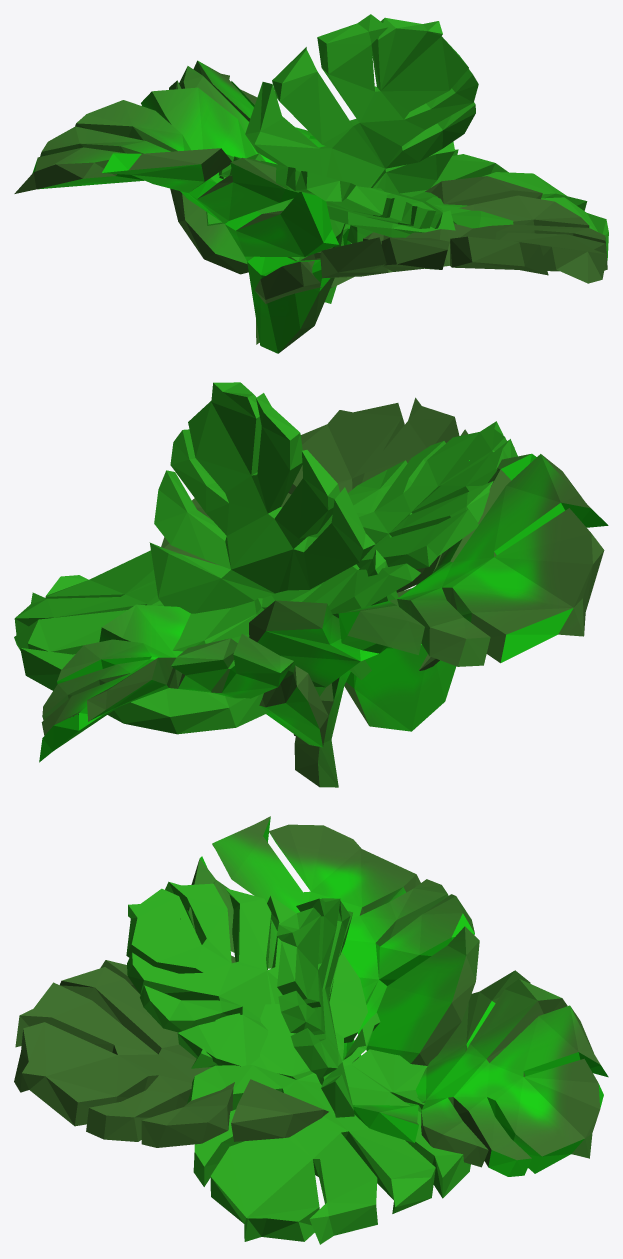
The model's file is planta.fbx.
3 views of the same model, one above another, from view 1: azimuth 30°, elevation 25°; view 2: azimuth 150°, elevation 25°; view 3: azimuth 270°, elevation 25° (orthographic). The views are drawn at different scales.
Parts seen in each view (by area): view 1: Plane; view 2: Plane; view 3: Plane.
Part boxes in pixels (box(x1,y1,x2,y2)): Plane: box(14, 14, 608, 353); Plane: box(14, 382, 608, 787); Plane: box(14, 816, 608, 1244).
Size of the model in its own units: 711 by 404 by 714.
Materials: 2 (2 with a texture image).
